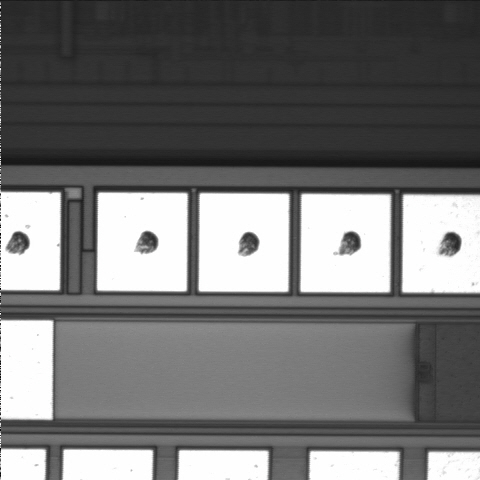pad: (199, 193, 289, 292), (97, 193, 187, 291), (301, 194, 390, 292)
